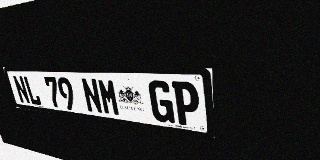7: (43, 77, 64, 109)
9: (56, 77, 78, 111)
G: (148, 80, 175, 124)
L: (22, 76, 42, 106)
M: (97, 78, 121, 116)
N: (80, 78, 103, 114), (12, 75, 31, 104)
P: (172, 81, 200, 127)
